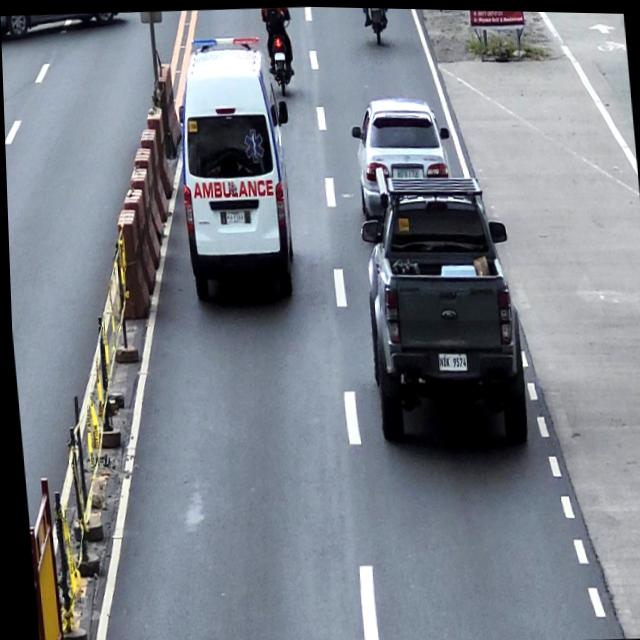Car: (354, 167, 527, 448), (168, 32, 302, 303), (347, 92, 456, 219)
License-Plate: (434, 347, 467, 371), (390, 164, 424, 180), (223, 207, 244, 225), (273, 50, 286, 60)
Motorcycle: (261, 11, 297, 95), (361, 6, 390, 44)
